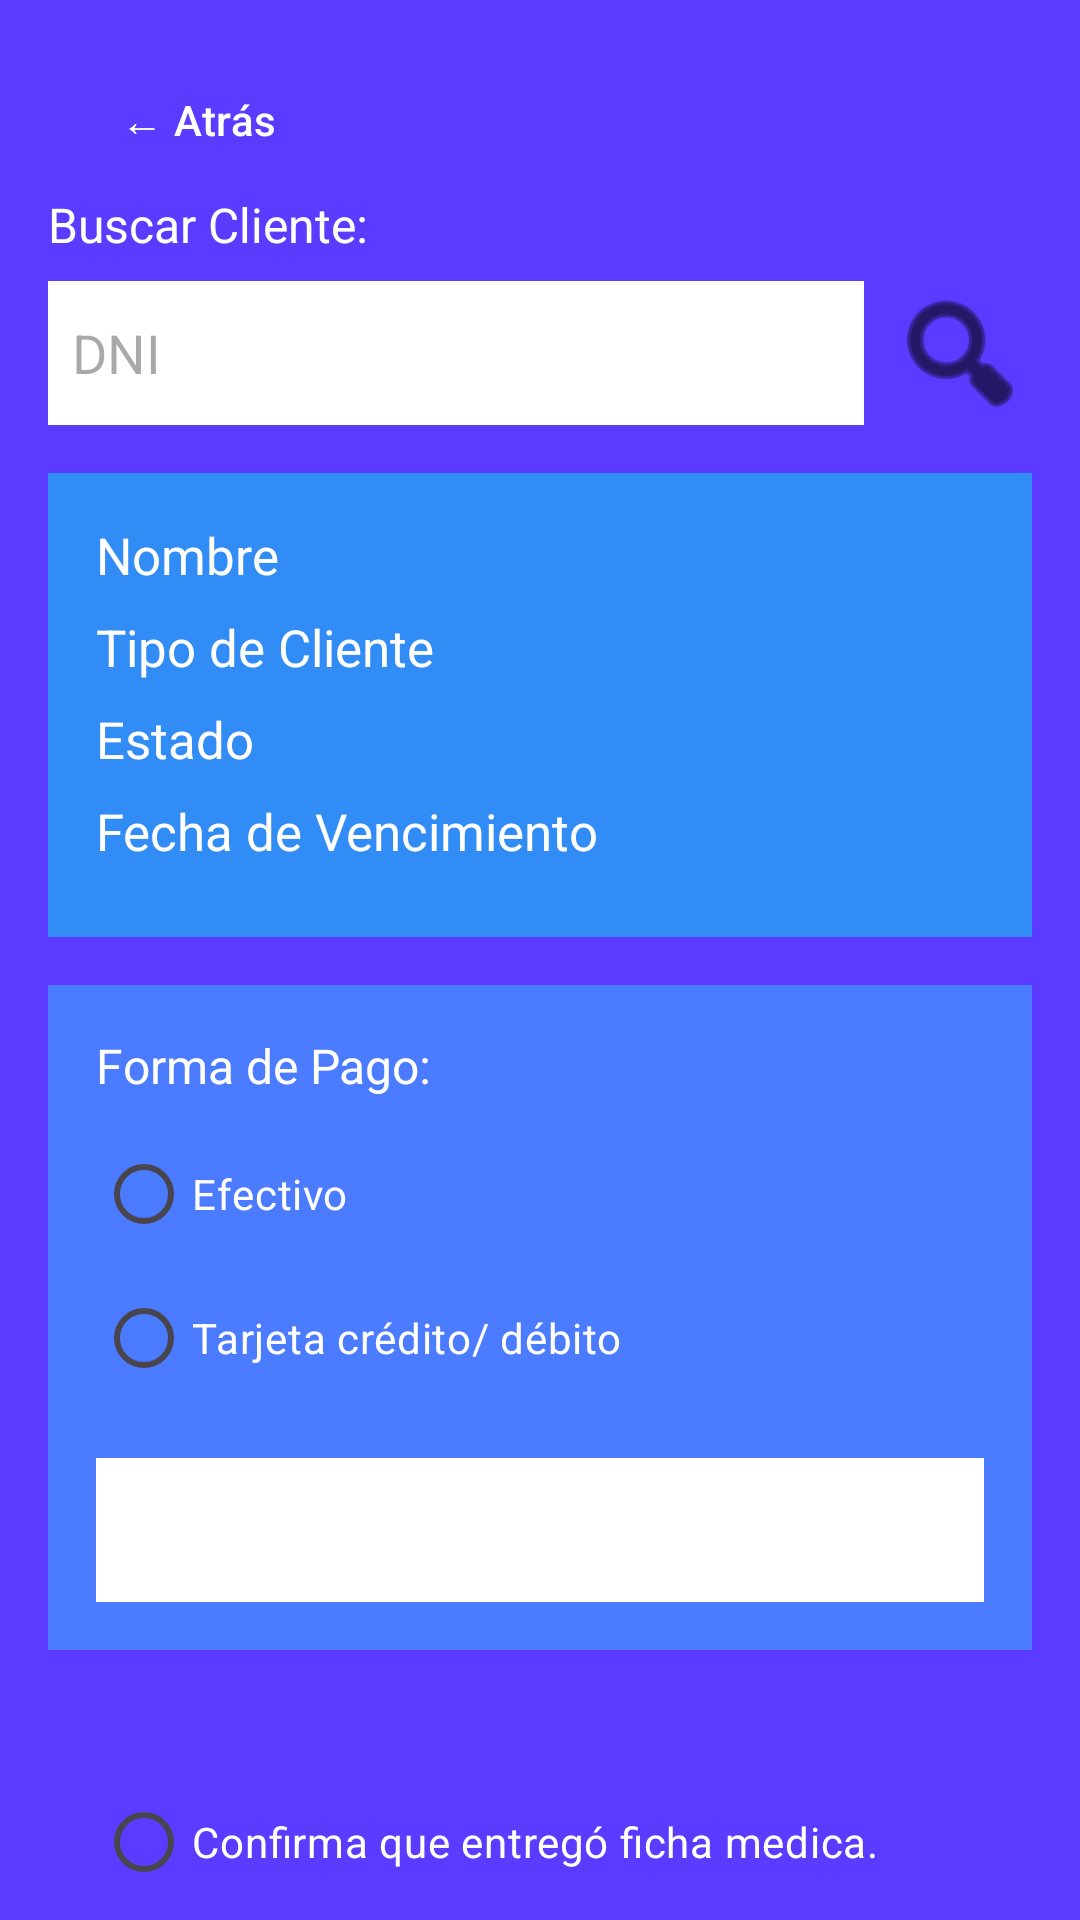

Icon bounding boxes for this 1080×1920 phone screenshot, format BBox(x1, y1, x2, y2):
Buscar cliente: BBox(907, 300, 1013, 407)
